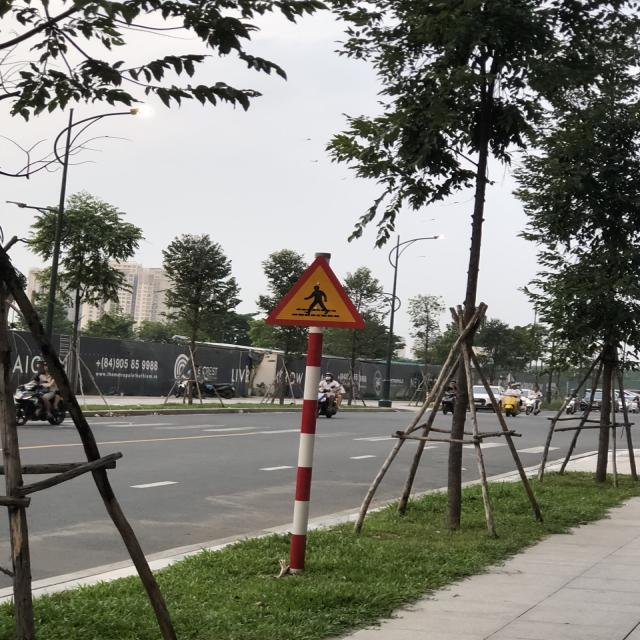Bien bao duong nguoi di bo cat ngang: (254, 249, 374, 339)
